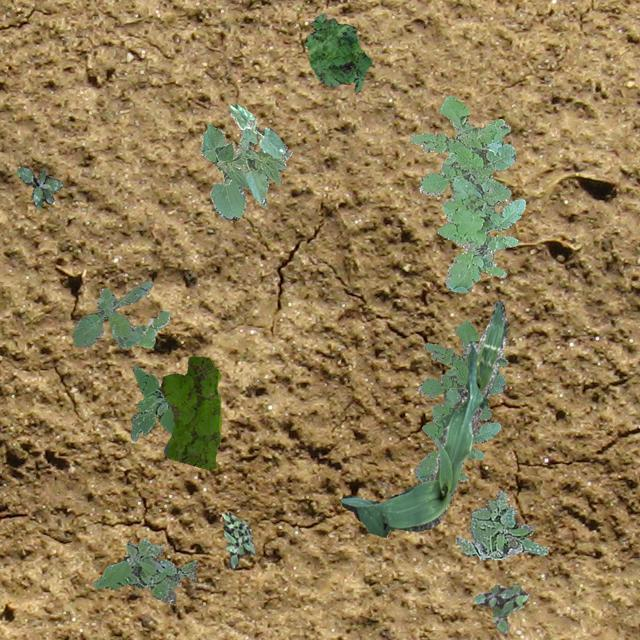crop: (339, 298, 506, 536), (200, 122, 290, 218), (229, 102, 287, 158)
weed: (410, 95, 524, 292), (414, 320, 506, 480), (158, 356, 220, 470), (92, 538, 198, 602), (72, 280, 168, 348), (454, 488, 546, 558), (304, 12, 371, 92), (130, 364, 174, 440), (474, 584, 528, 632), (15, 165, 60, 208), (220, 510, 253, 568)
